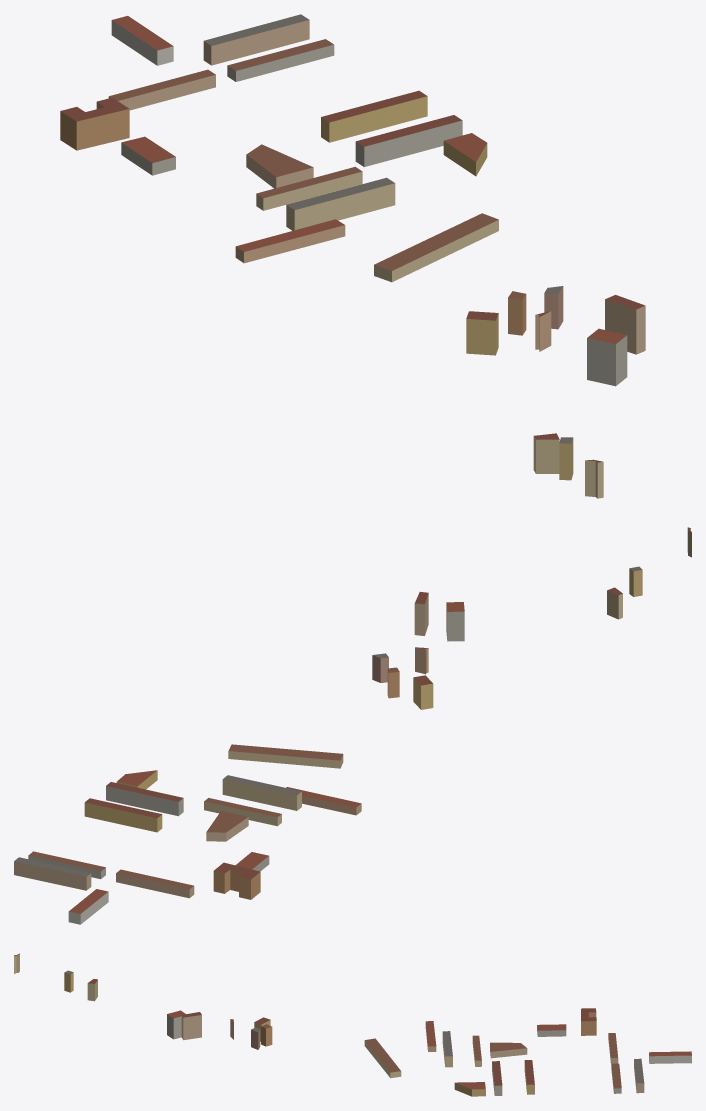
File: SM_Fondale_Citta_NO_03_LOD2.fbx
3 renders of one model, top to bottom at view 1: azimuth 30°, elevation 25°; view 2: azimuth 150°, elevation 25°; view 3: azimuth 270°, elevation 25°, orthographic. The views are drawn at different scales.
Parts seen in each view (by area): view 1: SM_Fondale_Citta_NO_03_LOD2; view 2: SM_Fondale_Citta_NO_03_LOD2; view 3: SM_Fondale_Citta_NO_03_LOD2.
Part boxes in pixels (<box>): SM_Fondale_Citta_NO_03_LOD2: <box>60,14,645,498</box>; SM_Fondale_Citta_NO_03_LOD2: <box>14,527,691,924</box>; SM_Fondale_Citta_NO_03_LOD2: <box>14,953,691,1096</box>.
Bounding box in the file's own units: 27709 × 91911 × 8651.
